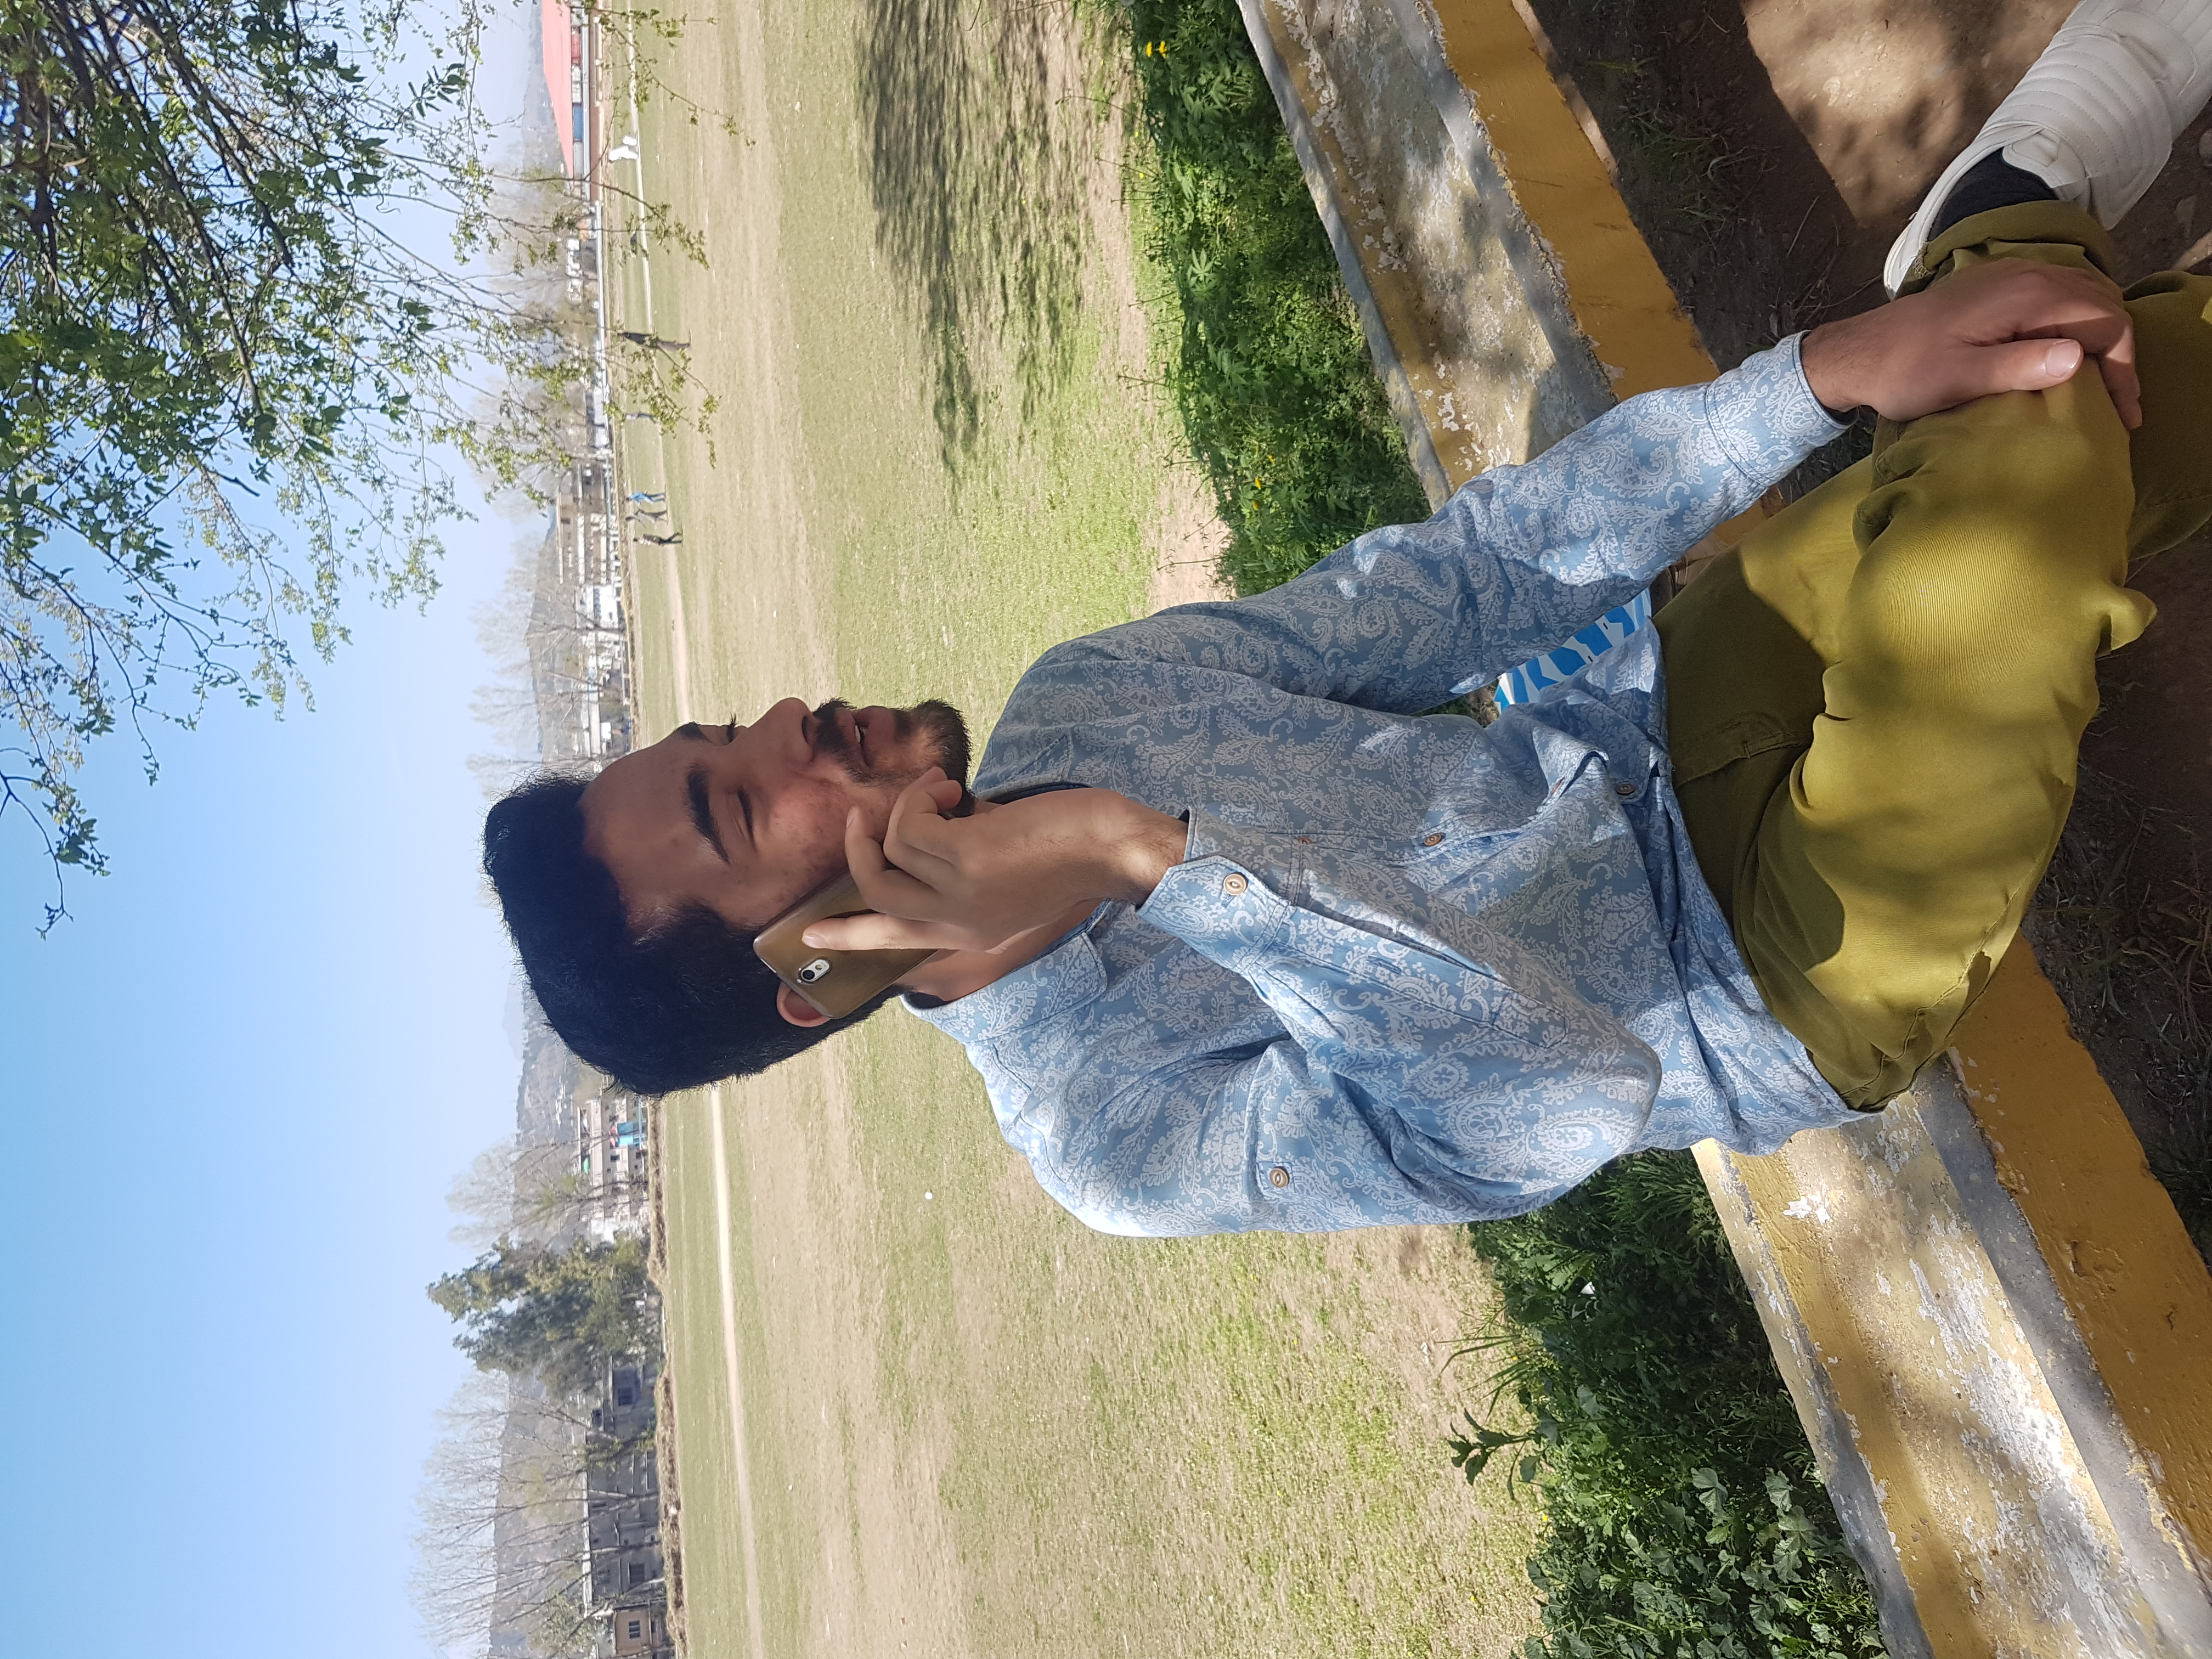face: (495, 684, 1003, 889)
mobile: (758, 905, 927, 1001)
